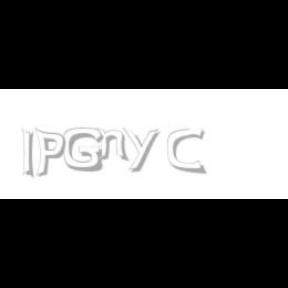C: (168, 128, 204, 174)
G: (63, 128, 103, 172)
P: (34, 128, 66, 178)
l: (22, 128, 38, 180)
n: (96, 128, 130, 162)
y: (123, 128, 163, 172)
